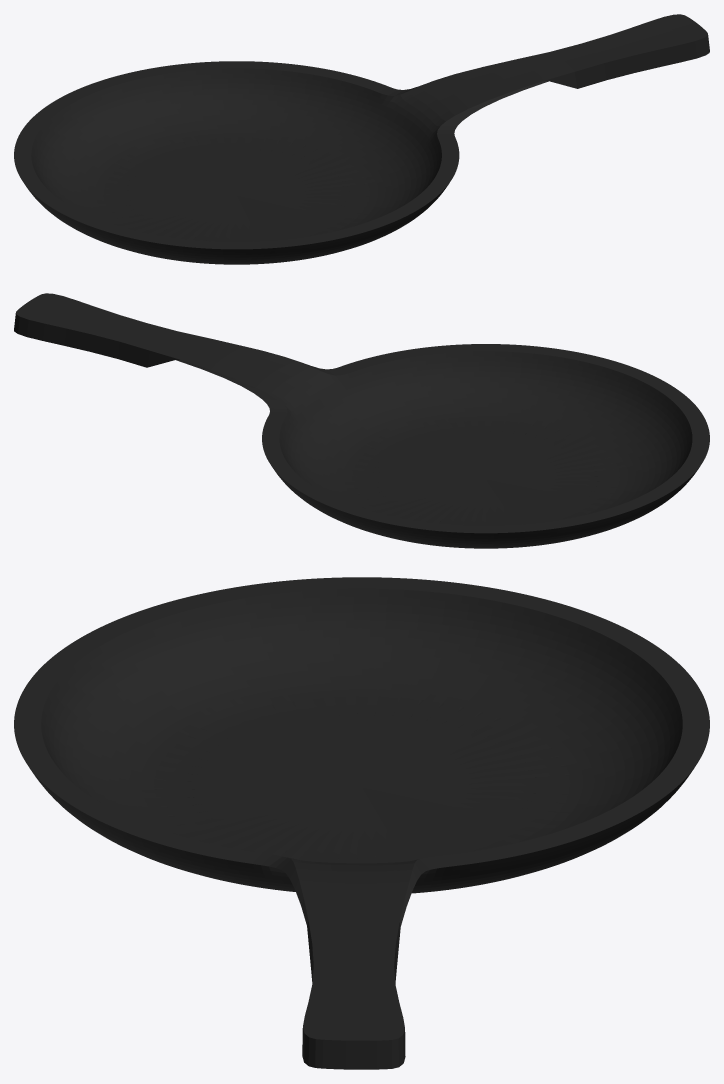
Rendered from Pan.fbx.
The picture shows the model from 3 angles, top to bottom: view 1: azimuth 30°, elevation 25°; view 2: azimuth 150°, elevation 25°; view 3: azimuth 270°, elevation 25°; orthographic projection. The views are drawn at different scales.
Parts seen in each view (by area): view 1: Cylinder; view 2: Cylinder; view 3: Cylinder.
Boxes of the visible parts, box(x1,y1,x2,y2) form: Cylinder: box(14, 14, 709, 264); Cylinder: box(14, 293, 709, 548); Cylinder: box(14, 577, 709, 1069).
Bounding box in the file's own units: 532 × 48.91 × 314.
